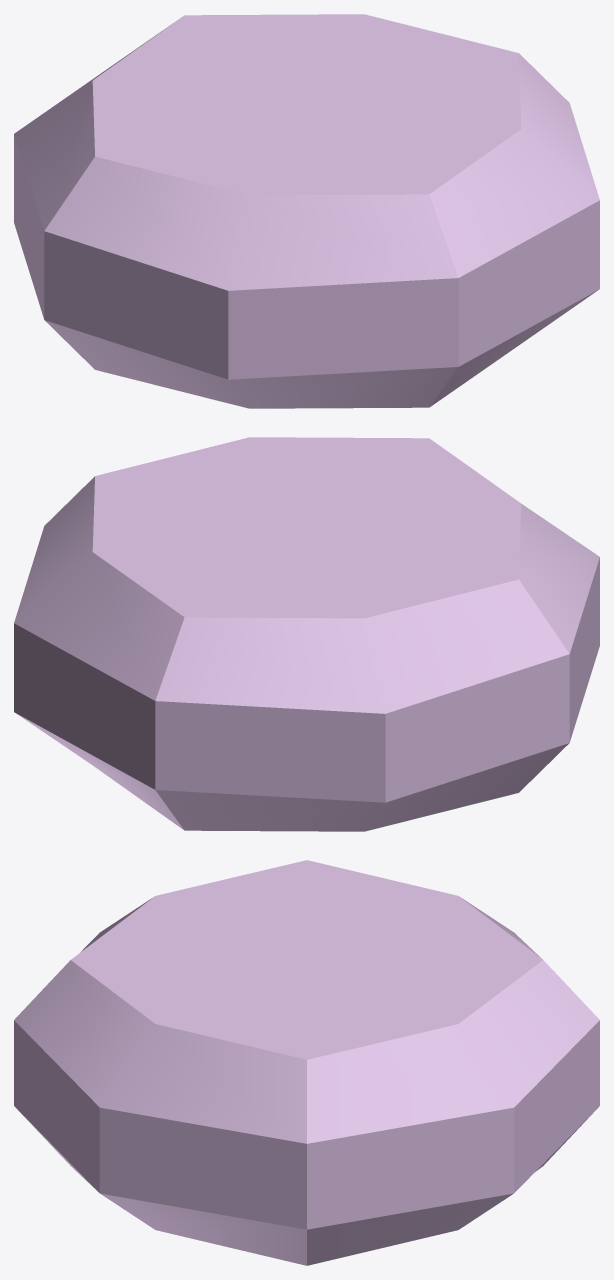
The model's file is mentosONE.fbx.
3 views of the same model, one above another, from view 1: azimuth 30°, elevation 25°; view 2: azimuth 150°, elevation 25°; view 3: azimuth 270°, elevation 25° (orthographic). The views are drawn at different scales.
Visible parts, largest first — view 1: pCylinder3; view 2: pCylinder3; view 3: pCylinder3.
Part boxes in pixels (left/top/right/bottom): pCylinder3: left=14, top=14, right=599, bottom=408; pCylinder3: left=14, top=437, right=599, bottom=831; pCylinder3: left=14, top=860, right=599, bottom=1265.
Size of the model in its own units: 1.85 by 0.7181 by 1.85.
